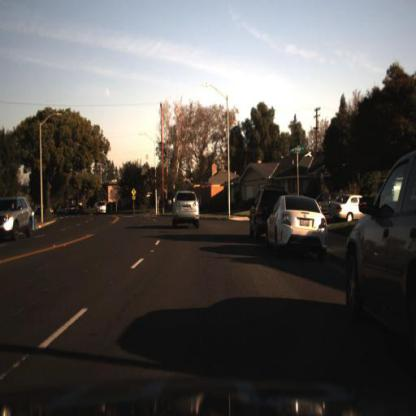car: (344, 150, 416, 359), (266, 194, 332, 265), (267, 194, 334, 256), (249, 184, 291, 244), (1, 196, 36, 242), (328, 191, 370, 226), (246, 184, 268, 245), (170, 189, 202, 229), (94, 202, 106, 217)
